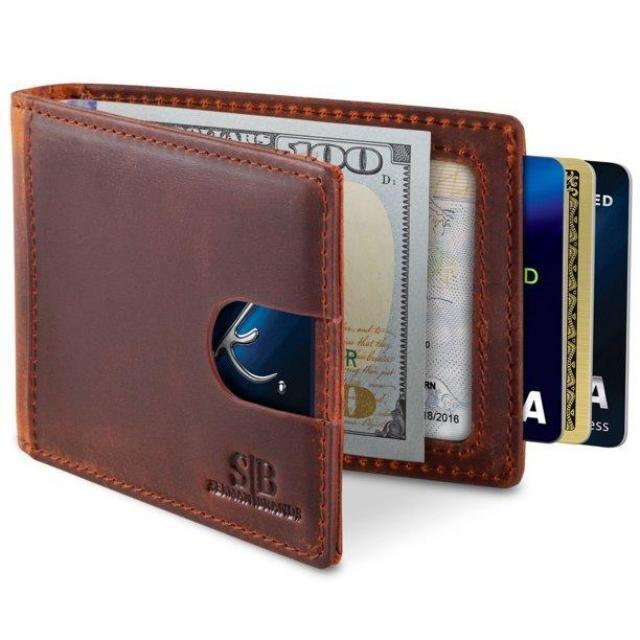Wallet: (5, 80, 529, 572)
